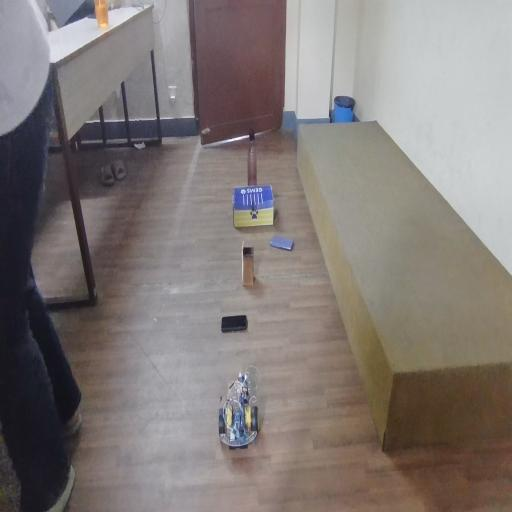Bottle: (241, 128, 259, 166)
car: (216, 375, 275, 474)
